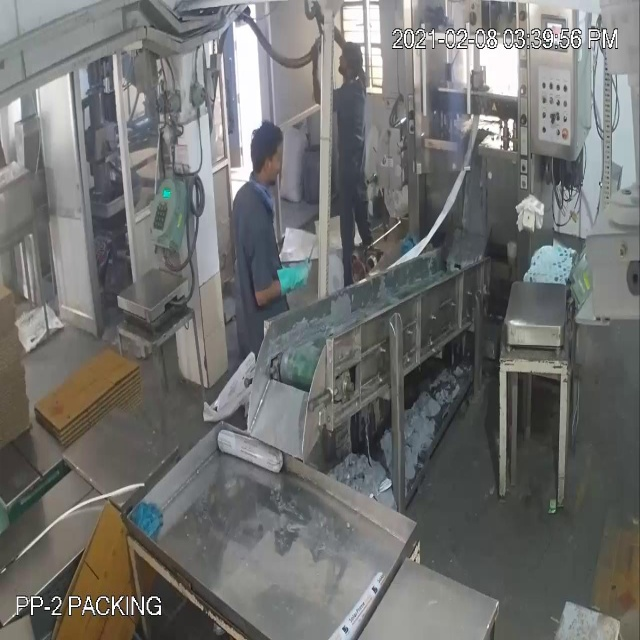Guantes: (268, 253, 317, 315)
